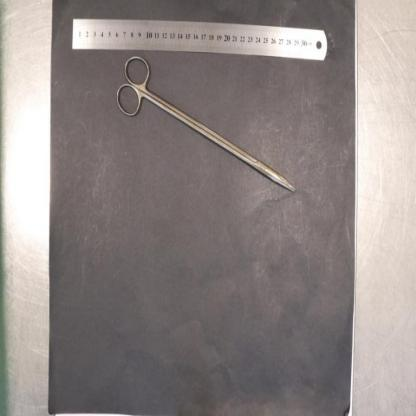9 Metzenbaum Scissors: (115, 54, 296, 192)
